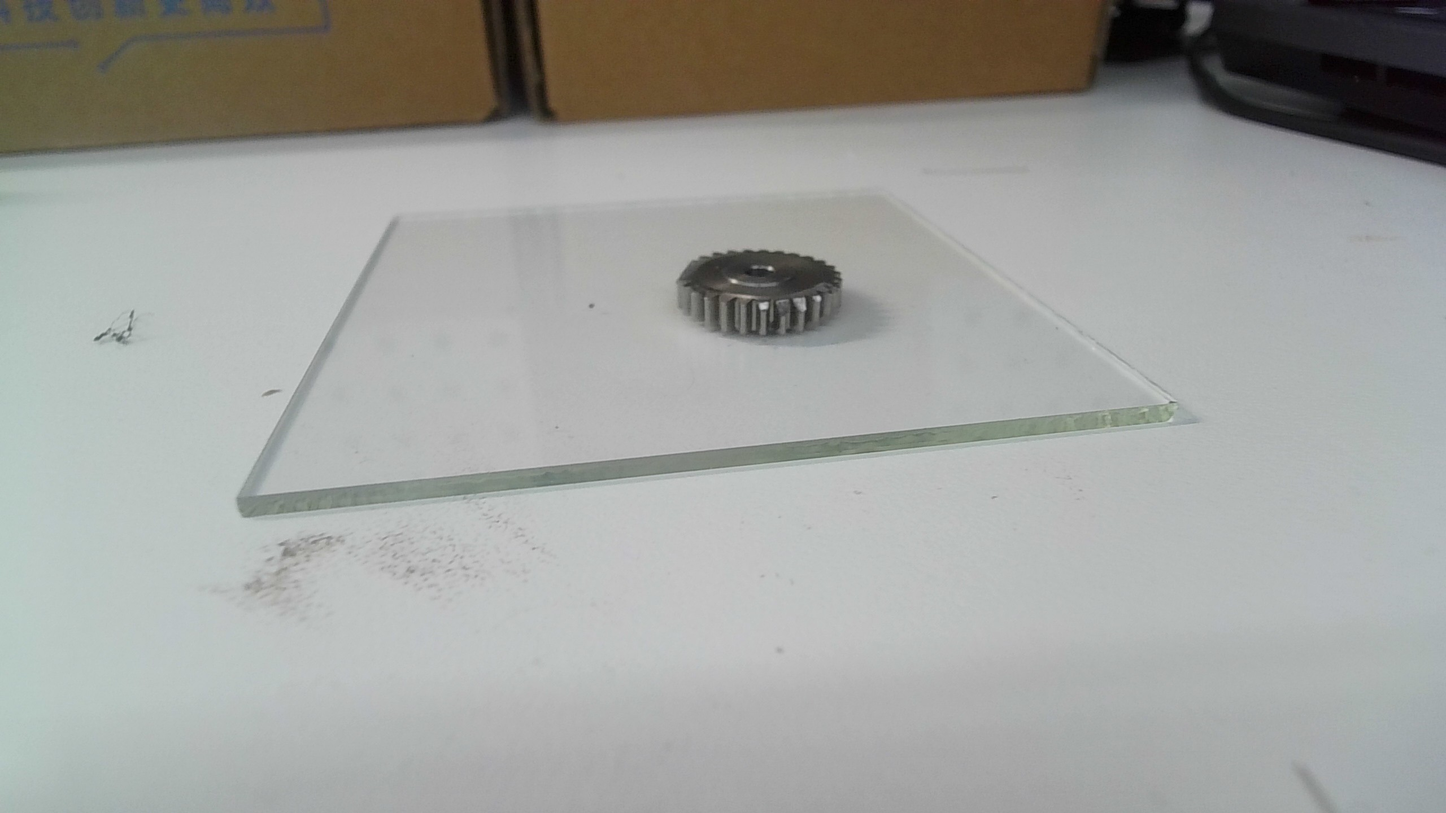gear: (673, 248, 847, 340)
